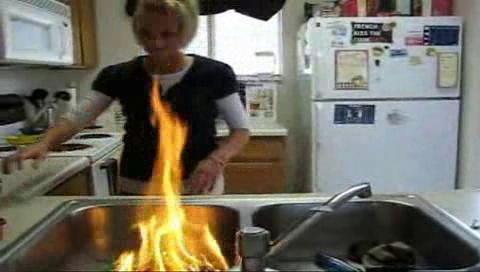fire: (134, 85, 211, 264)
